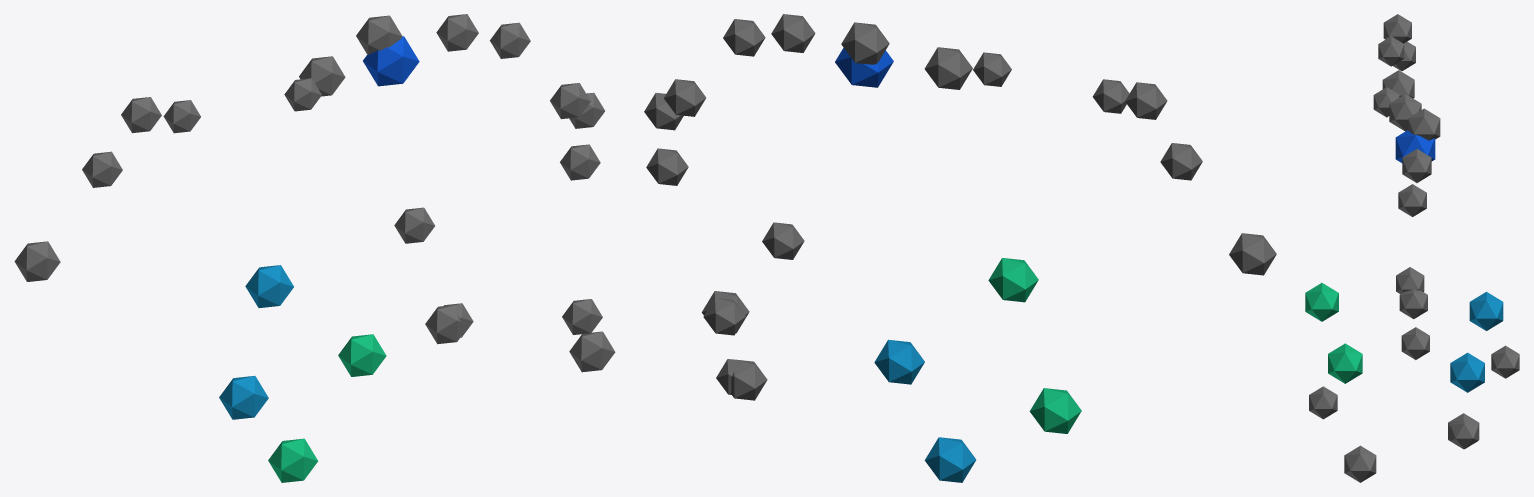
3 renders of one model, left to right at view 1: azimuth 30°, elevation 25°; view 2: azimuth 150°, elevation 25°; view 3: azimuth 270°, elevation 25°, orthographic. The views are drawn at different scales.
Parts seen in each view (by area): view 1: 06_04_03; view 2: 06_04_03; view 3: 06_04_03.
Boxes of the visible parts, left/top/right/bottom form: 06_04_03: left=14, top=14, right=615, bottom=482; 06_04_03: left=644, top=14, right=1276, bottom=482; 06_04_03: left=1305, top=14, right=1519, bottom=482.
Bounding box in the file's own units: 0.6522 × 0.4168 × 0.2533.
